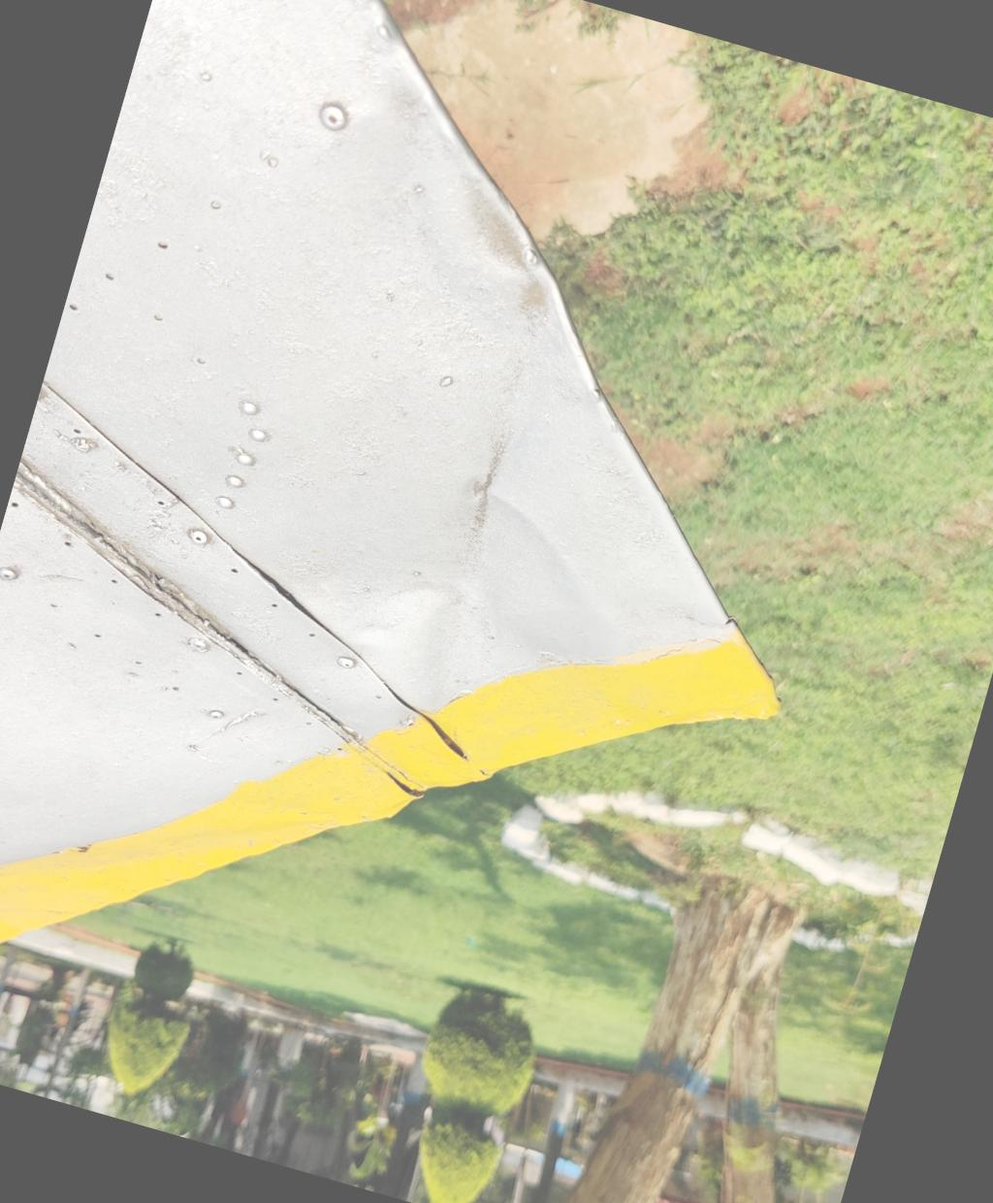dent: (399, 137, 625, 394)
